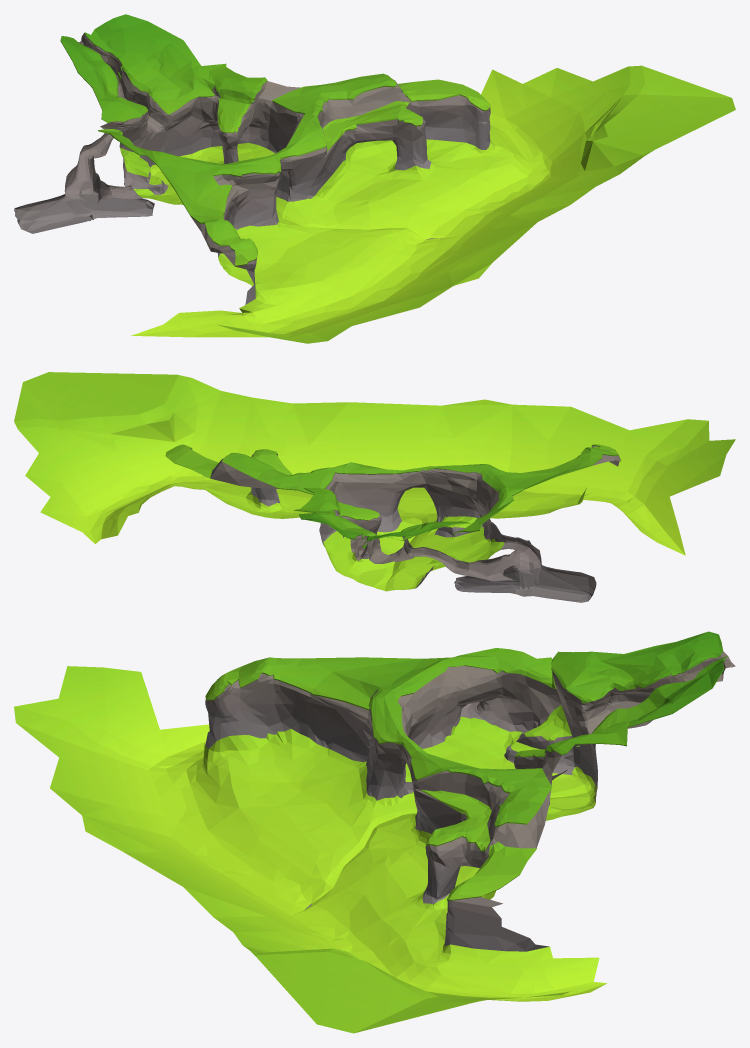
3 renders of one model, top to bottom at view 1: azimuth 30°, elevation 25°; view 2: azimuth 150°, elevation 25°; view 3: azimuth 270°, elevation 25°, orthographic. The views are drawn at different scales.
Visible parts, largest first — view 1: BASEMESH_FOREST; view 2: BASEMESH_FOREST; view 3: BASEMESH_FOREST.
Part boxes in pixels (x1=…): BASEMESH_FOREST: x1=14, y1=14, x2=735, y2=343; BASEMESH_FOREST: x1=14, y1=372, x2=735, y2=602; BASEMESH_FOREST: x1=14, y1=631, x2=735, y2=1033.
Size of the model in its own units: 200 by 39.13 by 159.
Materials: 1 (1 with a texture image).
